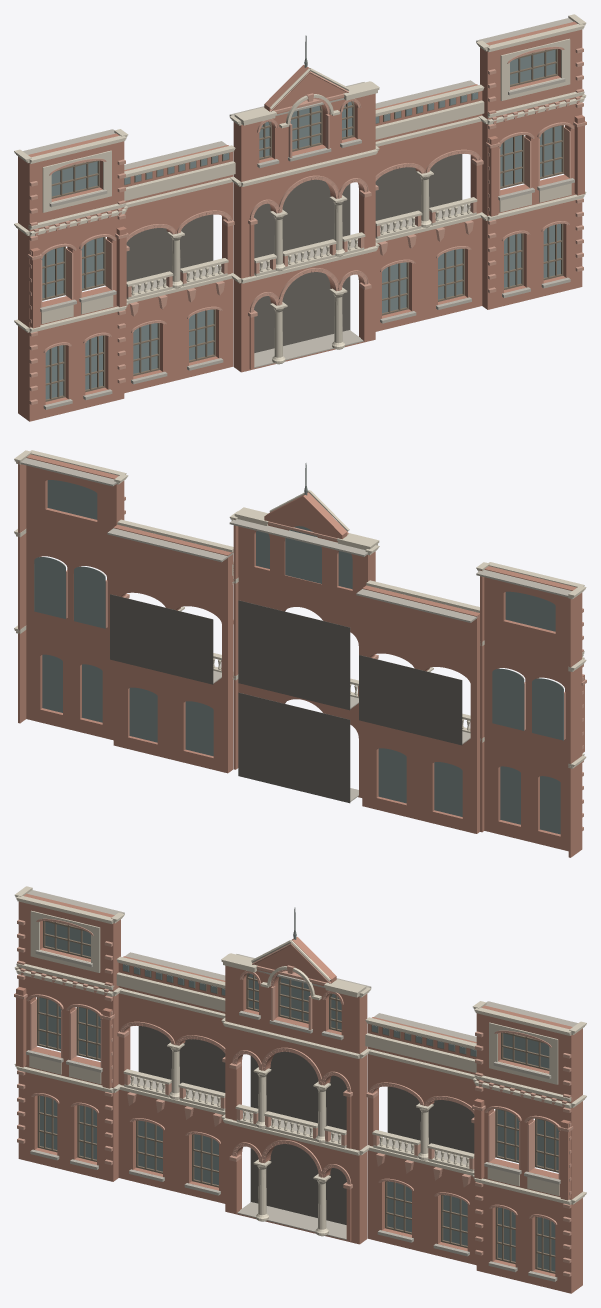
The model's file is huangpu-ruikang-comprador-residence-raw.glb.
3 renders of one model, top to bottom at view 1: azimuth 30°, elevation 25°; view 2: azimuth 150°, elevation 25°; view 3: azimuth 330°, elevation 25°, orthographic.
Parts seen in each view (by area): view 1: 瑞康洋行买办住宅（贝润生宅）历史庭院立面; view 2: 瑞康洋行买办住宅（贝润生宅）历史庭院立面; view 3: 瑞康洋行买办住宅（贝润生宅）历史庭院立面.
Part boxes in pixels (x1,y1,x2,y2): 瑞康洋行买办住宅（贝润生宅）历史庭院立面: (14, 14, 586, 421); 瑞康洋行买办住宅（贝润生宅）历史庭院立面: (14, 450, 586, 857); 瑞康洋行买办住宅（贝润生宅）历史庭院立面: (14, 886, 586, 1293).
Size of the model in its own units: 30.53 by 16.59 by 2.44.
